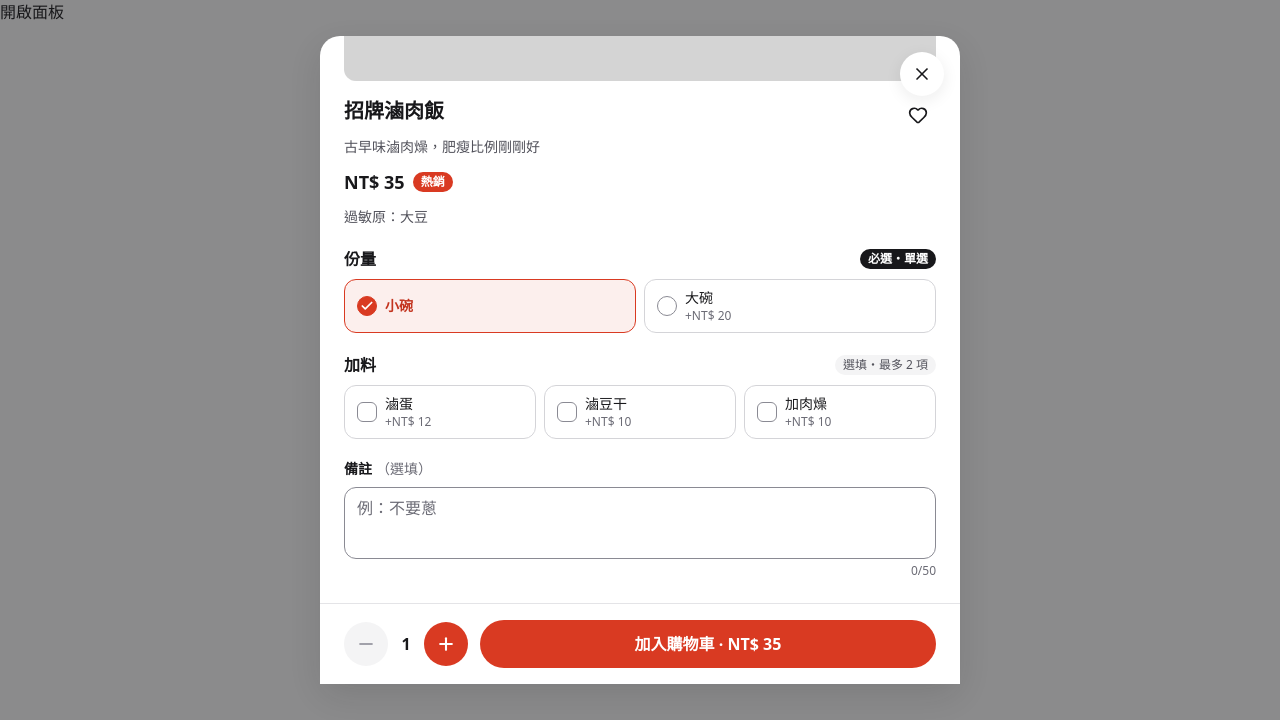
Scenario: 選項規則 › 複選達上限：其餘未選項停用並顯示「已達上限」
(page scrolled)
Click the checkbox labelled "滷蛋 +NT$ 12".
click(440, 412)  # box [344,385,536,439]
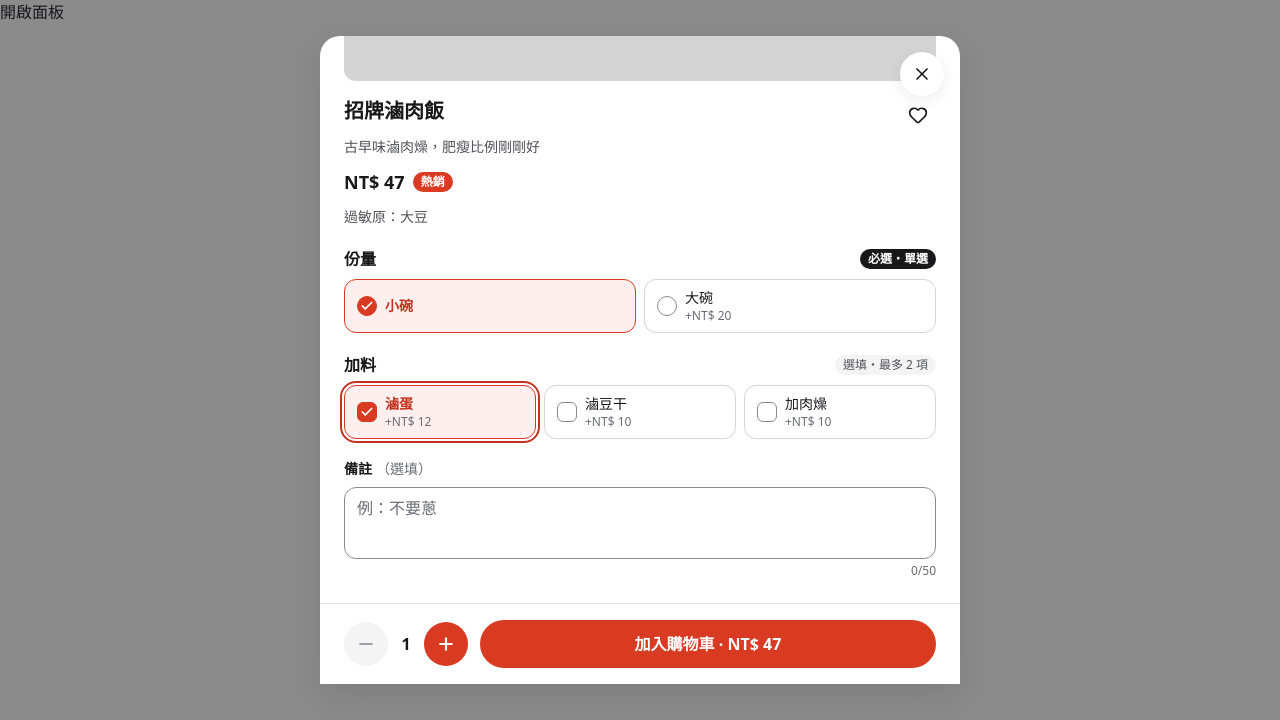
Click the checkbox labelled "滷豆干 +NT$ 10".
click(640, 412)  # box [544,385,736,439]
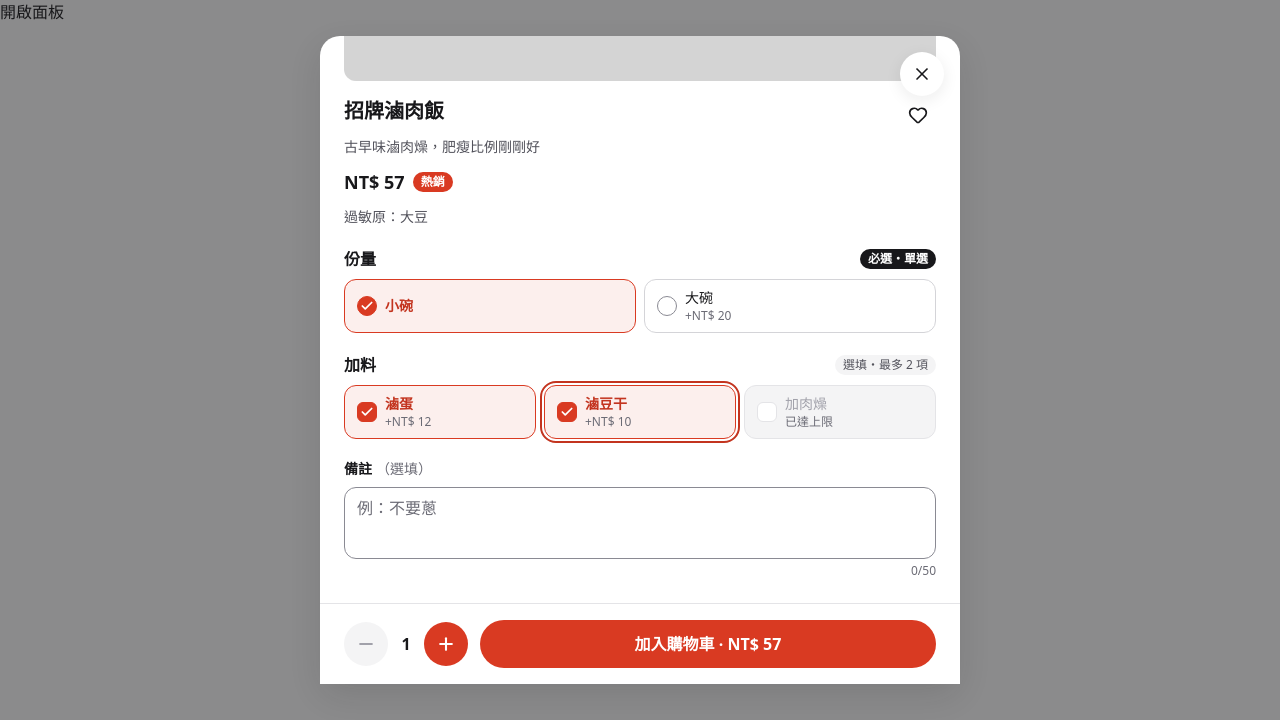
Check: the checkbox labelled "加肉燥 已達上限" is disabled, box [744,385,936,439]
Check: the text "已達上限" is shown, box [785,413,833,430]
